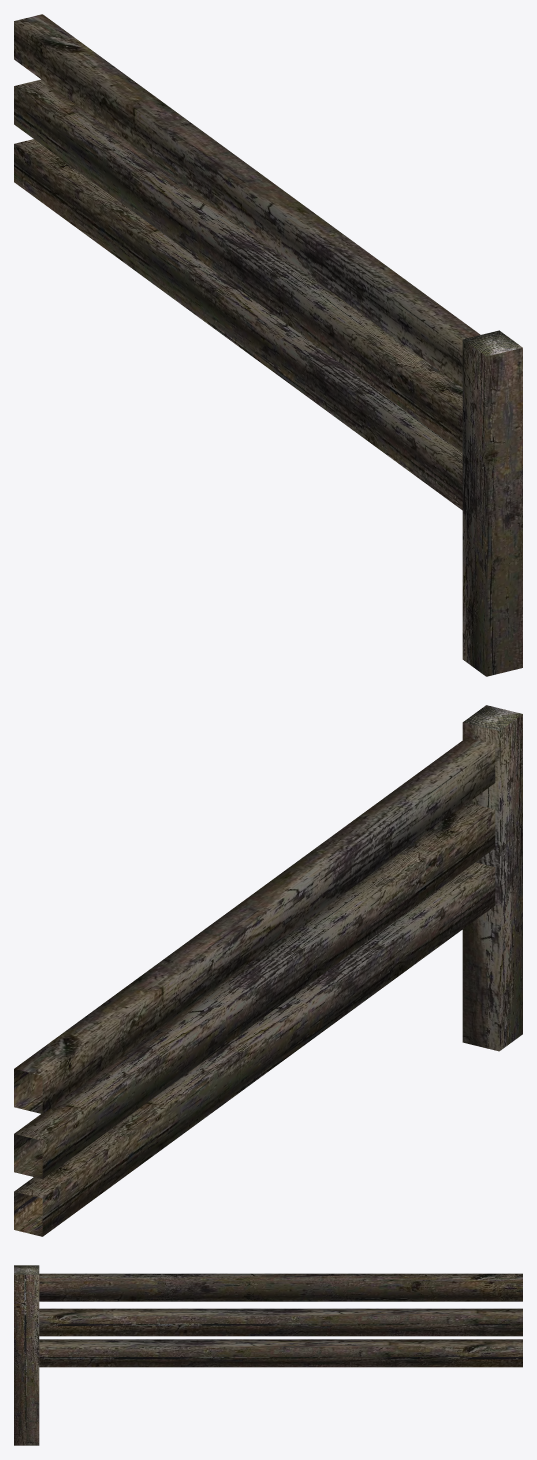
The model's file is KM_VOB_BARN_FENCE_01.glb.
The picture shows the model from 3 angles, top to bottom: view 1: azimuth 30°, elevation 25°; view 2: azimuth 150°, elevation 25°; view 3: azimuth 270°, elevation 25°; orthographic projection. The views are drawn at different scales.
Visible parts, largest first — view 1: Mesh; view 2: Mesh; view 3: Mesh.
Boxes of the visible parts, left/top/right/bottom form: Mesh: left=14, top=14, right=522, bottom=676; Mesh: left=14, top=705, right=522, bottom=1236; Mesh: left=14, top=1265, right=522, bottom=1445.
Bounding box in the file's own units: 0.1288 × 1.08 × 2.9.
Materials: 2 (2 with a texture image).
